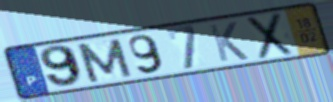7: (165, 23, 199, 72)
9: (39, 44, 86, 90), (128, 33, 166, 75)
K: (207, 20, 252, 64)
M: (74, 36, 136, 85)
X: (245, 10, 296, 61)
